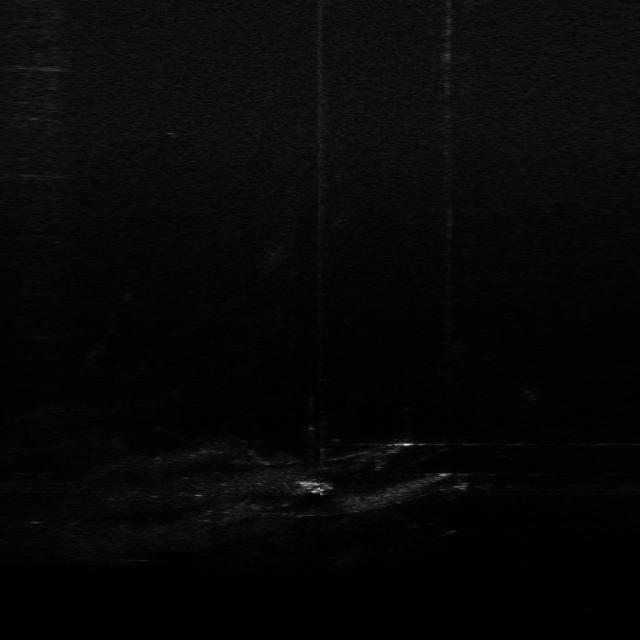rov: (296, 478, 336, 498)
